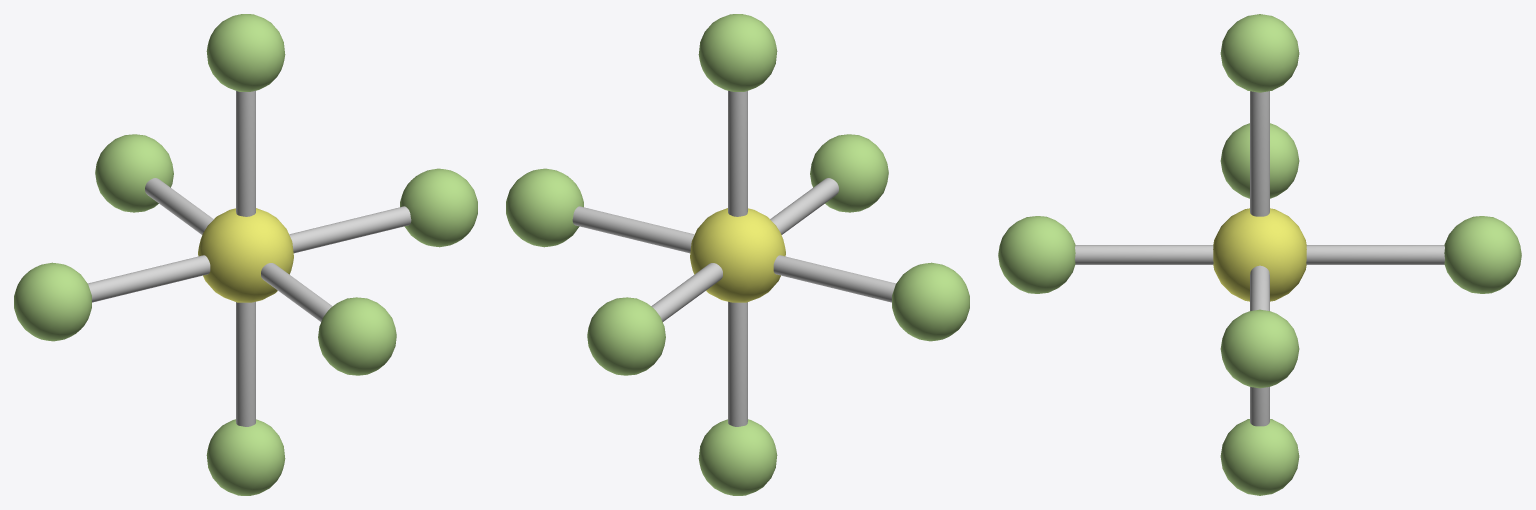
3 views of the same model, side by side, from view 1: azimuth 30°, elevation 25°; view 2: azimuth 150°, elevation 25°; view 3: azimuth 270°, elevation 25° (orthographic).
Parts seen in each view (by area): view 1: Atom_0_S, Atom_3_F, Atom_4_F, Atom_1_F, Atom_6_F, Atom_2_F, Atom_5_F, Bond, Bond_005, Bond_003, Bond_001, Bond_002 (+1 smaller); view 2: Atom_0_S, Atom_5_F, Atom_4_F, Atom_1_F, Atom_6_F, Atom_2_F, Atom_3_F, Bond, Bond_005, Bond_003, Bond_001, Bond_004 (+1 smaller); view 3: Atom_0_S, Atom_2_F, Atom_1_F, Atom_5_F, Atom_3_F, Atom_6_F, Atom_4_F, Bond_004, Bond_002, Bond, Bond_001, Bond_005.
Part boxes in pixels (bbox=[...]): Atom_0_S: bbox=[198, 208, 293, 302]; Atom_3_F: bbox=[318, 297, 396, 375]; Atom_4_F: bbox=[14, 262, 91, 341]; Atom_1_F: bbox=[206, 14, 285, 91]; Atom_6_F: bbox=[206, 419, 285, 495]; Atom_2_F: bbox=[400, 168, 477, 247]; Atom_5_F: bbox=[95, 134, 173, 212]; Bond: bbox=[236, 90, 255, 216]; Bond_005: bbox=[236, 301, 255, 426]; Bond_003: bbox=[88, 255, 210, 302]; Bond_001: bbox=[289, 206, 411, 253]; Bond_002: bbox=[261, 263, 332, 321]; Atom_0_S: bbox=[690, 208, 785, 302]; Atom_5_F: bbox=[587, 297, 665, 375]; Atom_4_F: bbox=[892, 262, 969, 341]; Atom_1_F: bbox=[698, 14, 777, 91]; Atom_6_F: bbox=[698, 419, 777, 495]; Atom_2_F: bbox=[506, 168, 583, 247]; Atom_3_F: bbox=[810, 134, 888, 212]; Bond: bbox=[728, 90, 747, 216]; Bond_005: bbox=[728, 301, 747, 426]; Bond_003: bbox=[773, 255, 895, 302]; Bond_001: bbox=[572, 206, 694, 253]; Bond_004: bbox=[651, 263, 722, 321]; Atom_0_S: bbox=[1213, 208, 1306, 301]; Atom_2_F: bbox=[1220, 309, 1299, 388]; Atom_1_F: bbox=[1220, 14, 1299, 92]; Atom_5_F: bbox=[1444, 216, 1521, 293]; Atom_3_F: bbox=[998, 216, 1075, 293]; Atom_6_F: bbox=[1220, 419, 1299, 495]; Atom_4_F: bbox=[1220, 123, 1299, 198]; Bond_004: bbox=[1306, 245, 1444, 264]; Bond_002: bbox=[1075, 245, 1213, 264]; Bond: bbox=[1250, 91, 1269, 216]; Bond_001: bbox=[1250, 265, 1269, 310]; Bond_005: bbox=[1250, 387, 1269, 426].
Bounding box in the file's own units: 3.91 × 3.91 × 3.91.
